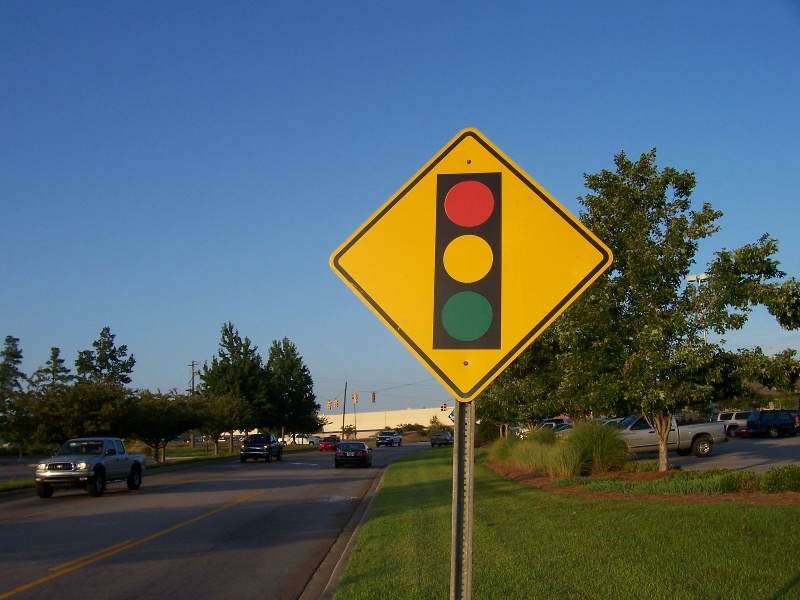traffic signal sign: (325, 124, 616, 404)
